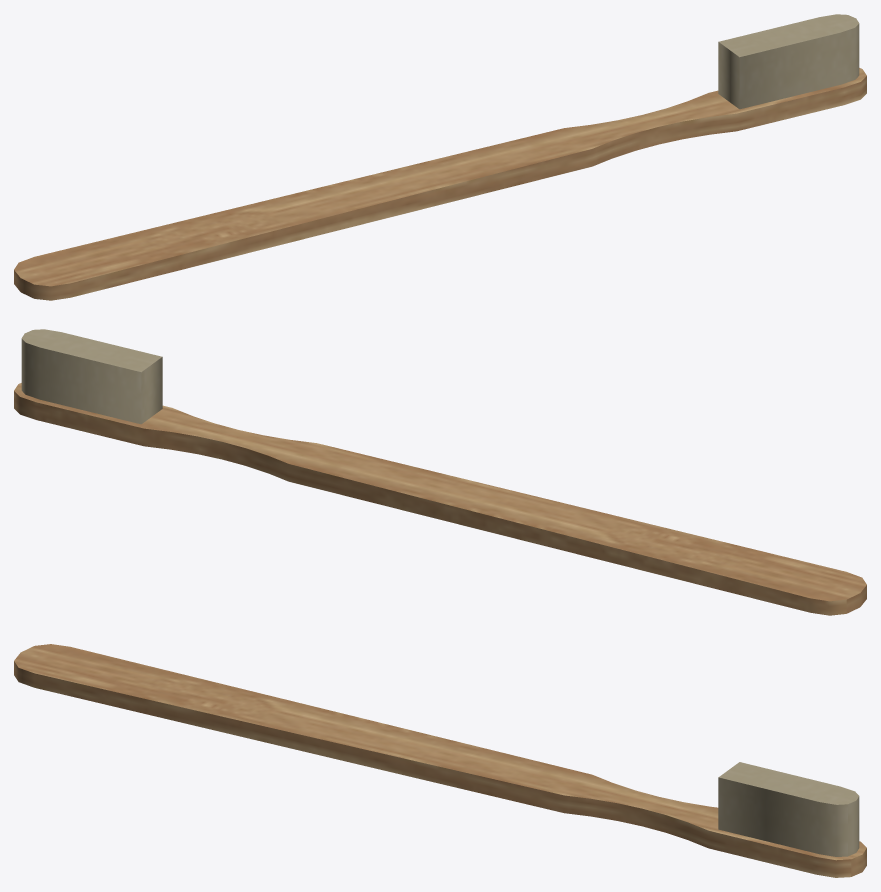
The model's file is Toothbrush.FBX.
3 renders of one model, top to bottom at view 1: azimuth 30°, elevation 25°; view 2: azimuth 150°, elevation 25°; view 3: azimuth 330°, elevation 25°, orthographic.
Visible parts, largest first — view 1: Toothbrush; view 2: Toothbrush; view 3: Toothbrush.
Boxes of the visible parts, box(x1,y1,x2,y2) form: Toothbrush: box(14, 14, 866, 300); Toothbrush: box(14, 329, 866, 615); Toothbrush: box(14, 644, 866, 877).
Bounding box in the file's own units: 29.41 × 2.19 × 2.33.
